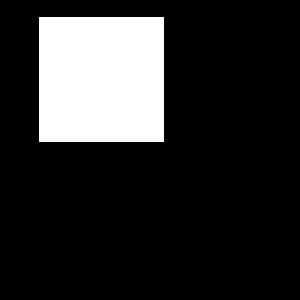circle: (39, 17, 164, 142)
